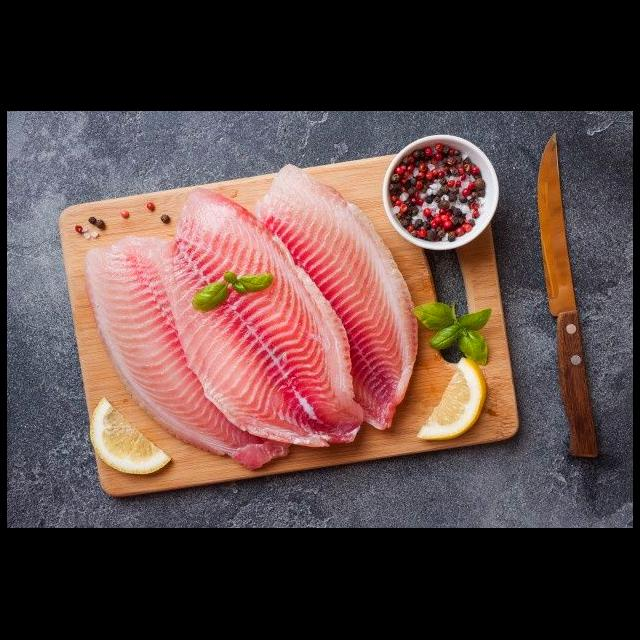fish: (159, 190, 363, 451)
